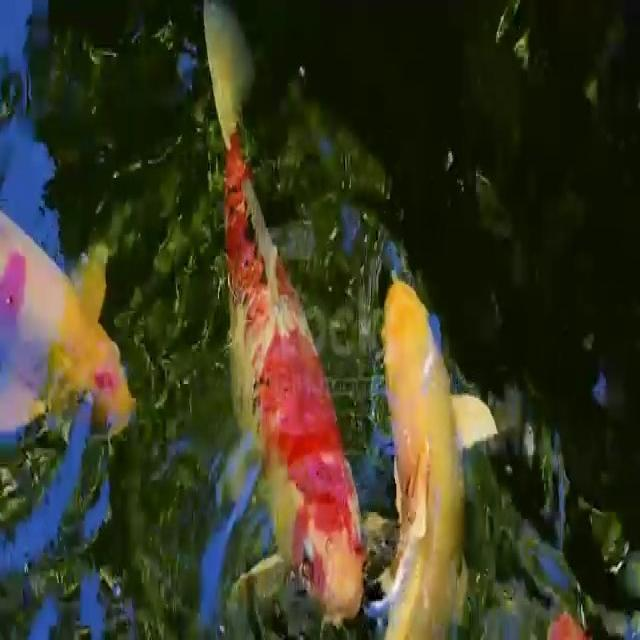fish: (197, 4, 371, 640), (379, 255, 505, 640), (0, 175, 155, 479)
